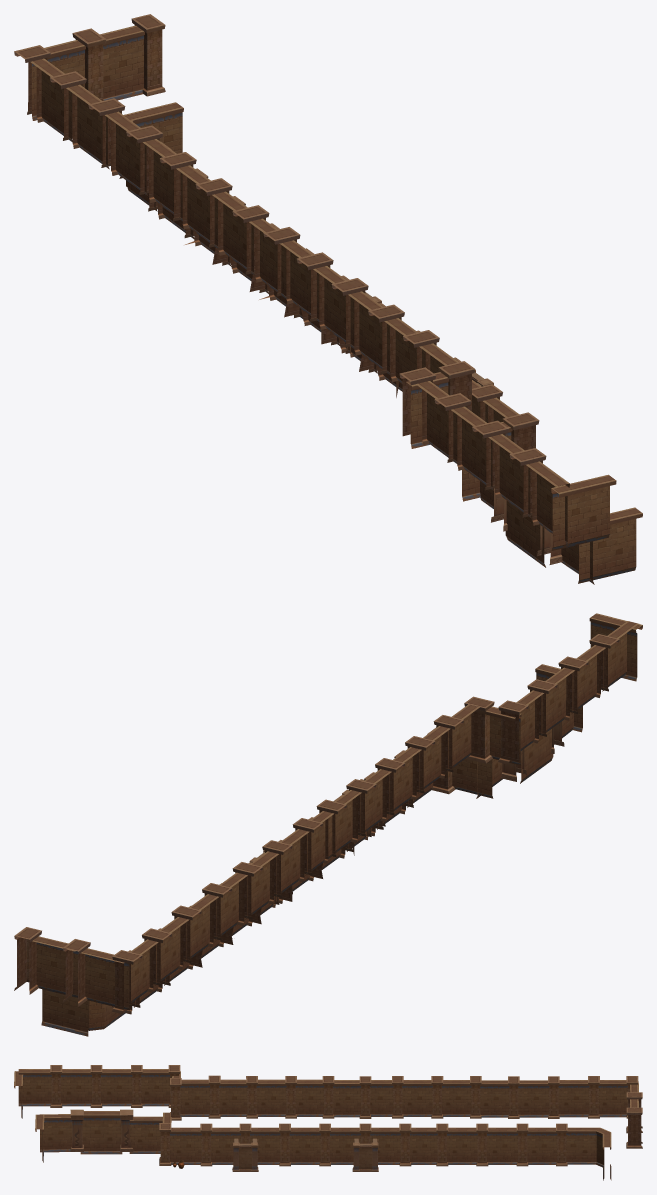
The model's file is Area_12_11.fbx.
The picture shows the model from 3 angles, top to bottom: view 1: azimuth 30°, elevation 25°; view 2: azimuth 150°, elevation 25°; view 3: azimuth 270°, elevation 25°; orthographic projection. The views are drawn at different scales.
Visible parts, largest first — view 1: Area_12_11; view 2: Area_12_11; view 3: Area_12_11.
Part boxes in pixels (<box>): Area_12_11: <box>14,14,642,584</box>; Area_12_11: <box>14,613,642,1036</box>; Area_12_11: <box>14,1065,642,1180</box>.
Size of the model in its own units: 2169 by 1593 by 12097.
